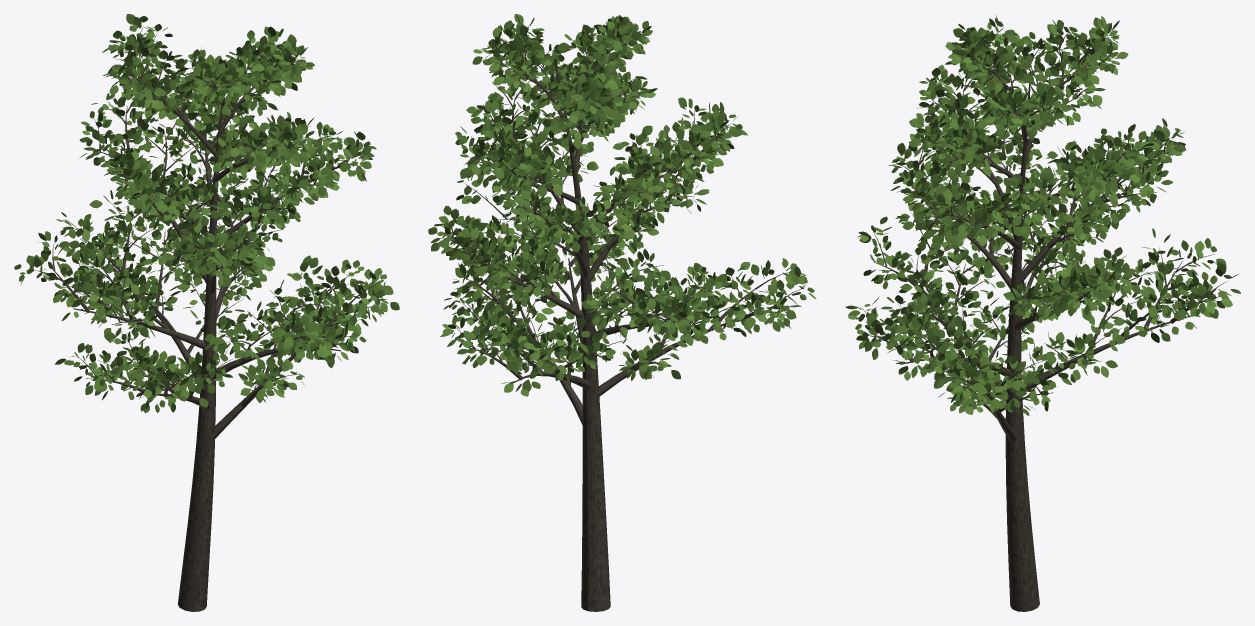
The model's file is asymmetric_06_lod0.glb.
The picture shows the model from 3 angles, left to right: view 1: azimuth 30°, elevation 25°; view 2: azimuth 150°, elevation 25°; view 3: azimuth 270°, elevation 25°; orthographic projection. The views are drawn at different scales.
Visible parts, largest first — view 1: individual_folded_leaves, trunk_branches; view 2: individual_folded_leaves, trunk_branches; view 3: individual_folded_leaves, trunk_branches.
Part boxes in pixels (x1,y1,x2,y2): individual_folded_leaves: (14,14,399,412); trunk_branches: (26,26,378,611); individual_folded_leaves: (428,14,816,396); trunk_branches: (445,29,804,611); individual_folded_leaves: (845,14,1240,415); trunk_branches: (861,29,1227,611).
Bounding box in the file's own units: 6.59 × 10.59 × 6.51.
Materials: 2 (1 with a texture image).
